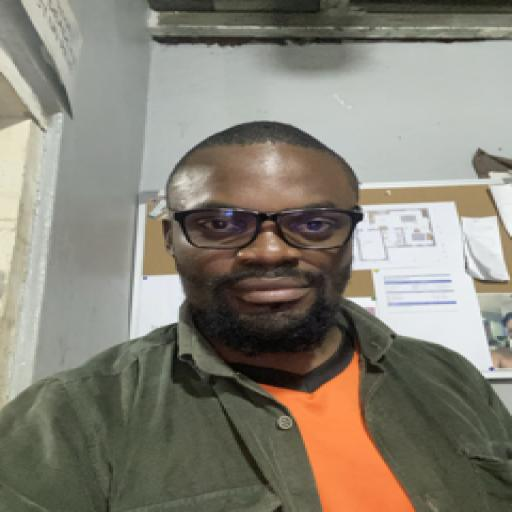JEANLUC: (150, 112, 372, 361)
